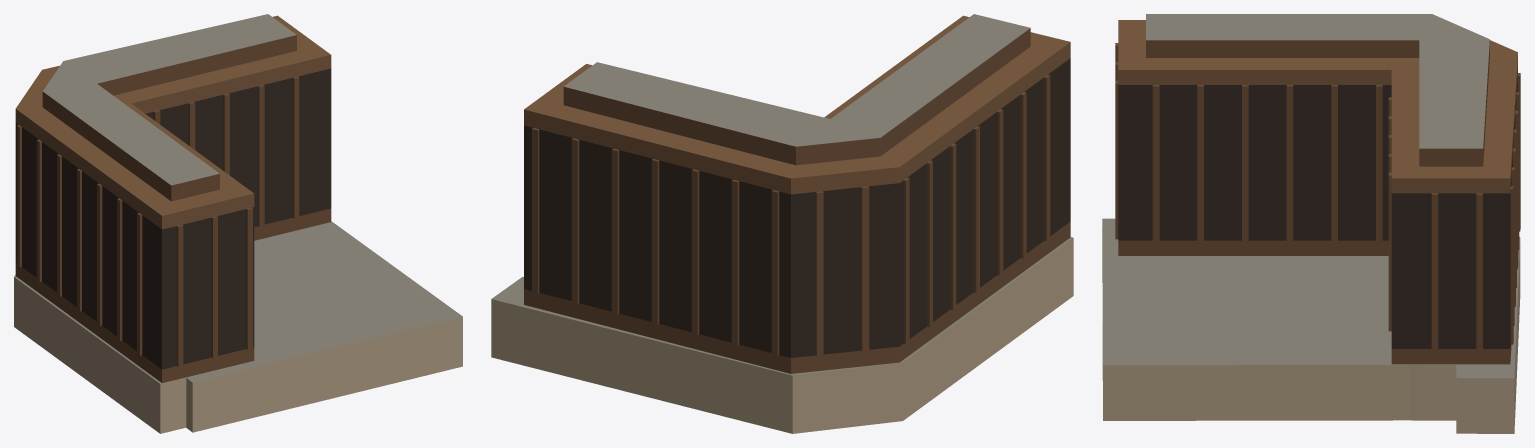
The model's file is 3400_paradise_road_r19484714.glb.
3 renders of one model, left to right at view 1: azimuth 30°, elevation 25°; view 2: azimuth 150°, elevation 25°; view 3: azimuth 270°, elevation 25°, orthographic. The views are drawn at different scales.
Parts seen in each view (by area): view 1: Tower; view 2: Tower; view 3: Tower.
Part boxes in pixels (x1,y1,x2,y2): Tower: [14, 14, 462, 433]; Tower: [491, 14, 1073, 433]; Tower: [1102, 14, 1520, 433].
Bounding box in the file's own units: 73.7 × 51.3 × 74.96.
